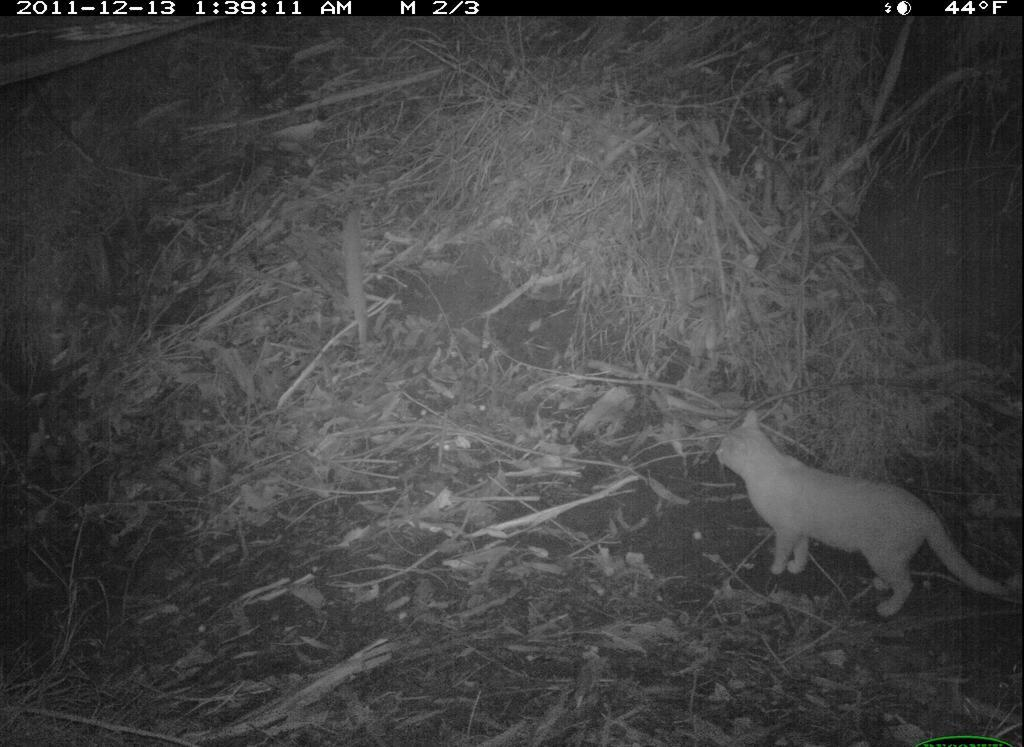cat: (703, 390, 1001, 630)
